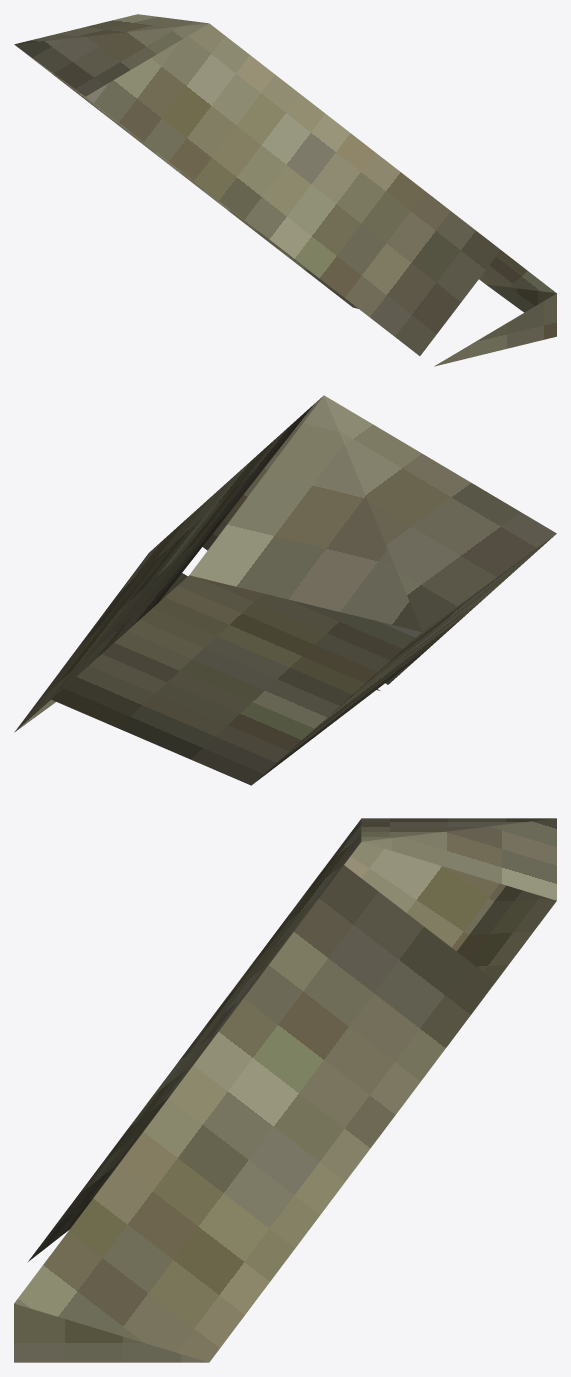
The model's file is beech_branch_45_diagonal.obj.
3 views of the same model, one above another, from view 1: azimuth 30°, elevation 25°; view 2: azimuth 150°, elevation 25°; view 3: azimuth 270°, elevation 25° (orthographic). The views are drawn at different scales.
Parts seen in each view (by area): view 1: cube; view 2: cube; view 3: cube.
Part boxes in pixels (x1,y1,x2,y2): cube: (14,14,556,366); cube: (14,395,556,785); cube: (14,818,556,1362).
Bounding box in the file's own units: 1.56 × 1.19 × 1.56.
